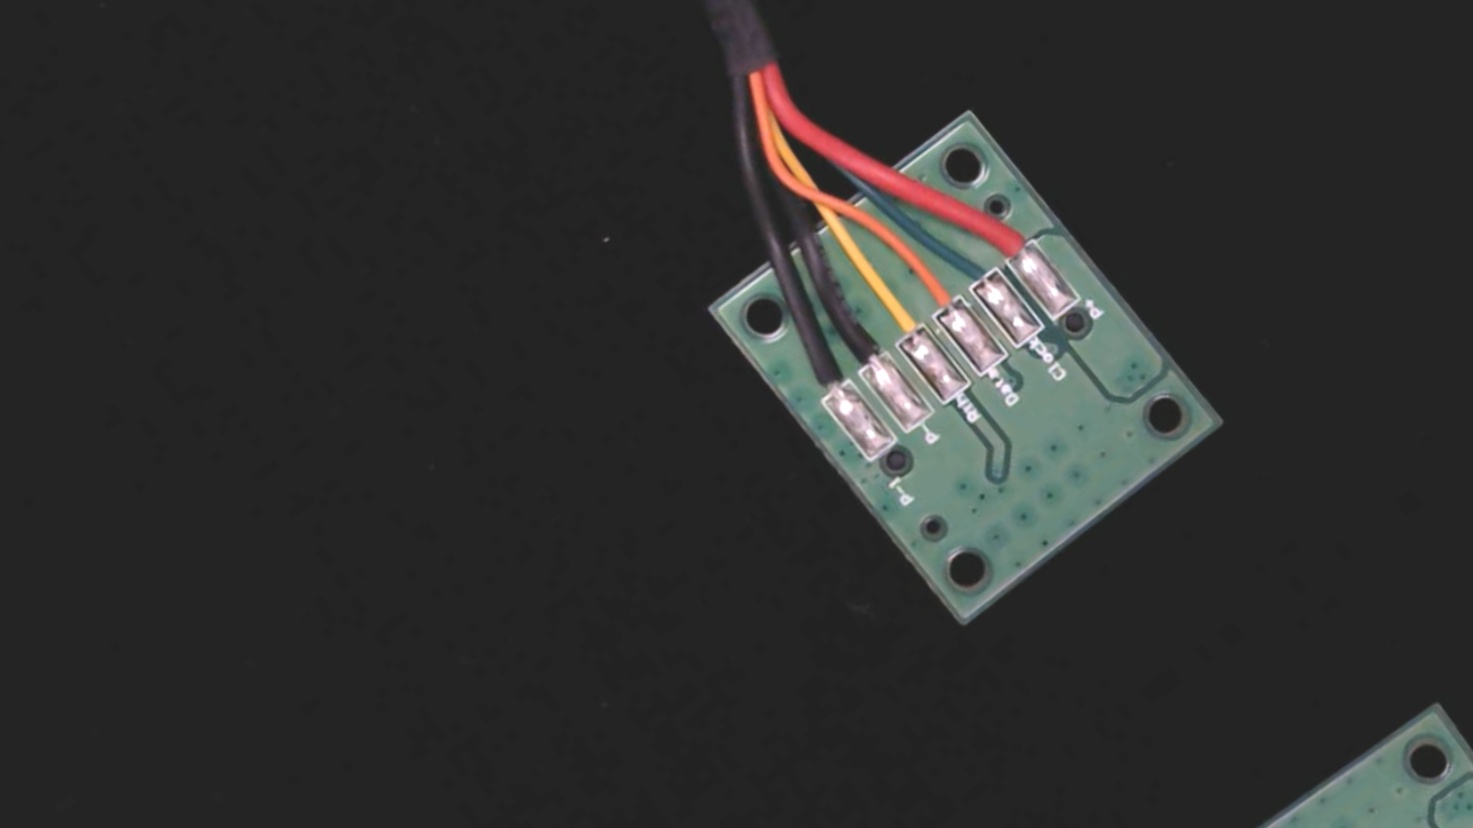Black: (826, 306, 900, 389)
Black1: (789, 339, 863, 419)
Green: (938, 224, 1015, 307)
Orange: (903, 252, 977, 333)
Red: (964, 191, 1050, 282)
Yellow: (862, 279, 939, 362)
